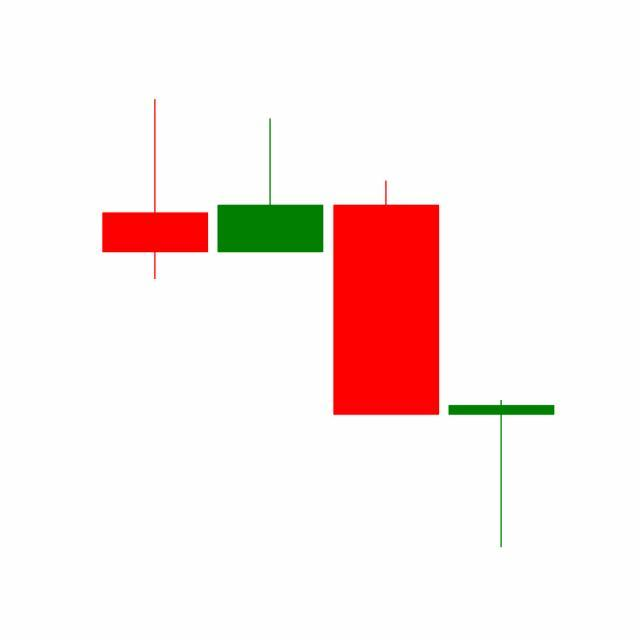Hammer: (444, 398, 560, 549)
